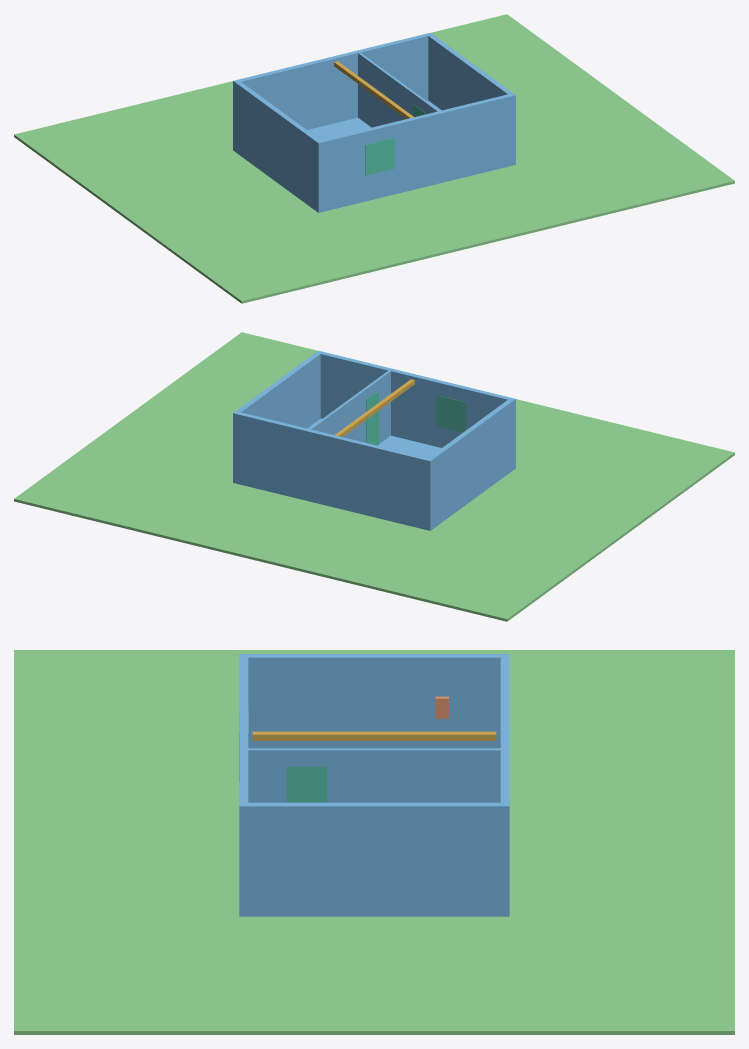
The model's file is maison.glb.
3 views of the same model, one above another, from view 1: azimuth 30°, elevation 25°; view 2: azimuth 150°, elevation 25°; view 3: azimuth 270°, elevation 25° (orthographic). The views are drawn at different scales.
Parts seen in each view (by area): view 1: terrain__jardin__ext__ext__001, structure__mur_porteur__salon__rdc__002, structure__mur_porteur__salon__rdc__001, structure__mur_porteur__salon__rdc__003, structure__mur_porteur__cuisine__rdc__004, structure__mur_cloison__cuisine__rdc__001, structure__dalle__salon__rdc__001, ouvertures__fenetre__salon__rdc__001, vmc__gaine__rdc__rdc__001; view 2: terrain__jardin__ext__ext__001, structure__mur_porteur__salon__rdc__001, structure__mur_porteur__salon__rdc__002, structure__mur_porteur__salon__rdc__003, structure__mur_porteur__cuisine__rdc__004, structure__dalle__salon__rdc__001, structure__mur_cloison__cuisine__rdc__001, ouvertures__fenetre__salon__rdc__001, vmc__gaine__rdc__rdc__001, ouvertures__porte_int__cuisine__rdc__001; view 3: terrain__jardin__ext__ext__001, structure__mur_porteur__cuisine__rdc__004, structure__mur_porteur__salon__rdc__003, structure__mur_cloison__cuisine__rdc__001, structure__mur_porteur__salon__rdc__001, structure__mur_porteur__salon__rdc__002, vmc__gaine__rdc__rdc__001, structure__dalle__salon__rdc__001, ouvertures__porte_int__cuisine__rdc__001.
Boxes of the visible parts, <box> form: terrain__jardin__ext__ext__001: <box>14,14,734,303</box>; structure__mur_porteur__salon__rdc__002: <box>315,93,515,207</box>; structure__mur_porteur__salon__rdc__001: <box>233,32,432,146</box>; structure__mur_porteur__salon__rdc__003: <box>236,81,319,205</box>; structure__mur_porteur__cuisine__rdc__004: <box>428,35,512,110</box>; structure__mur_cloison__cuisine__rdc__001: <box>358,52,439,127</box>; structure__dalle__salon__rdc__001: <box>233,100,515,212</box>; ouvertures__fenetre__salon__rdc__001: <box>365,137,394,175</box>; vmc__gaine__rdc__rdc__001: <box>334,61,413,118</box>; terrain__jardin__ext__ext__001: <box>14,332,734,621</box>; structure__mur_porteur__salon__rdc__001: <box>233,411,433,525</box>; structure__mur_porteur__salon__rdc__002: <box>316,350,515,464</box>; structure__mur_porteur__salon__rdc__003: <box>429,399,512,523</box>; structure__mur_porteur__cuisine__rdc__004: <box>236,353,320,428</box>; structure__dalle__salon__rdc__001: <box>233,418,515,530</box>; structure__mur_cloison__cuisine__rdc__001: <box>309,370,390,443</box>; ouvertures__fenetre__salon__rdc__001: <box>436,395,465,432</box>; vmc__gaine__rdc__rdc__001: <box>335,379,414,436</box>; ouvertures__porte_int__cuisine__rdc__001: <box>366,390,378,445</box>; terrain__jardin__ext__ext__001: <box>14,650,734,1034</box>; structure__mur_porteur__cuisine__rdc__004: <box>248,802,500,908</box>; structure__mur_porteur__salon__rdc__003: <box>248,654,500,748</box>; structure__mur_cloison__cuisine__rdc__001: <box>248,748,500,802</box>; structure__mur_porteur__salon__rdc__001: <box>500,654,509,908</box>; structure__mur_porteur__salon__rdc__002: <box>239,654,248,908</box>; vmc__gaine__rdc__rdc__001: <box>252,731,496,740</box>; structure__dalle__salon__rdc__001: <box>239,908,509,916</box>; ouvertures__porte_int__cuisine__rdc__001: <box>286,766,327,802</box>.
Size of the model in its own units: 20 by 2.8 by 16.
